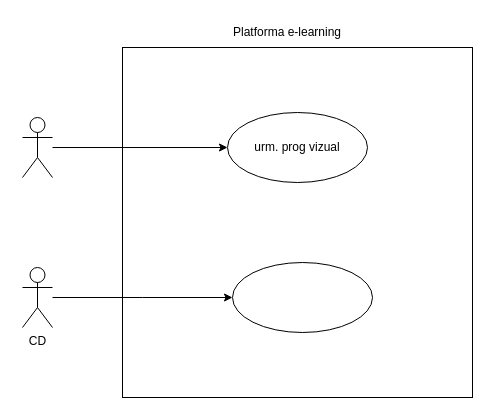
Image size: 490x415. Some labels were removed from this diagram. The box of each missing label's shape, as (x1, y1, x2, y2) in pixels:
desemnare resursa ca publica: (232, 262, 372, 332)
Student: (22, 116, 52, 178)
